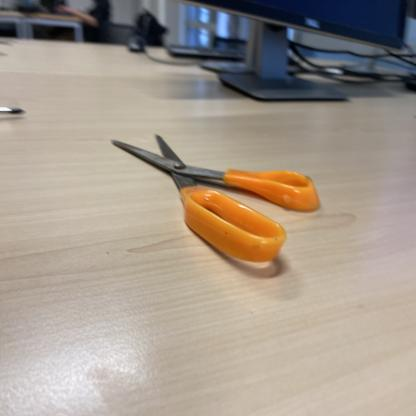scissors: (110, 132, 322, 266)
